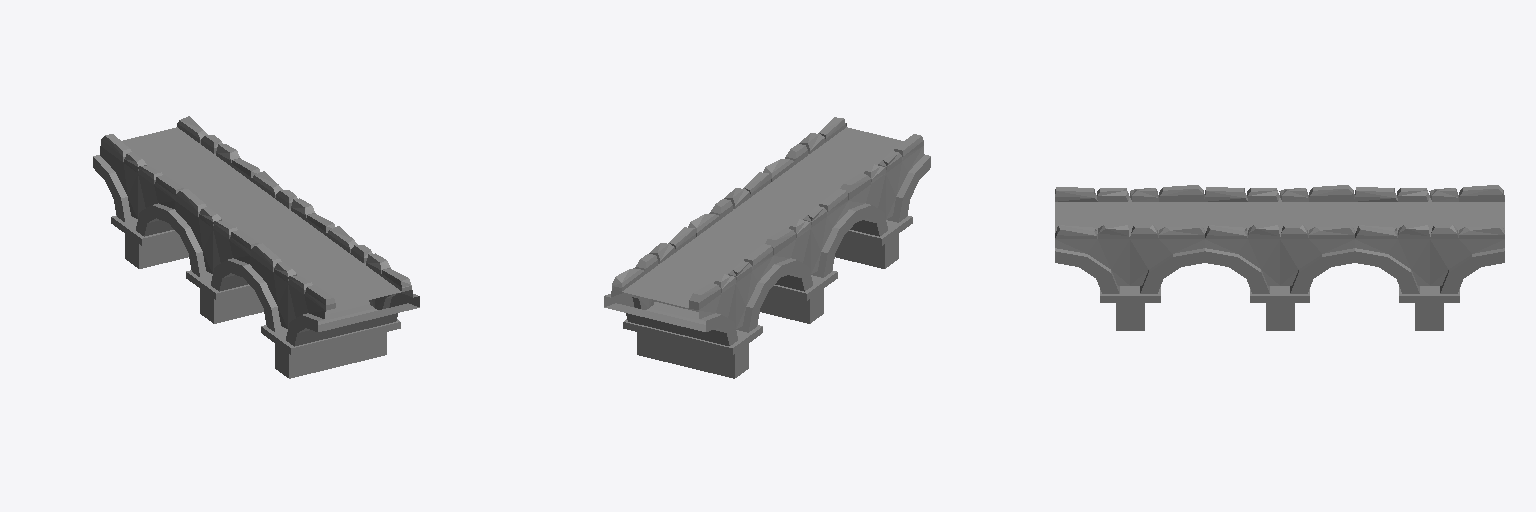
Rendered from bridge.obj.
The picture shows the model from 3 angles: view 1: azimuth 30°, elevation 25°; view 2: azimuth 150°, elevation 25°; view 3: azimuth 270°, elevation 25°; orthographic projection.
Parts seen in each view (by area): view 1: Tube01; view 2: Tube01; view 3: Tube01.
Boxes of the visible parts, box(x1,y1,x2,y2) form: Tube01: box(93, 116, 419, 378); Tube01: box(604, 117, 930, 378); Tube01: box(1055, 185, 1504, 330).
Size of the model in its own units: 96.91 by 86.12 by 346.